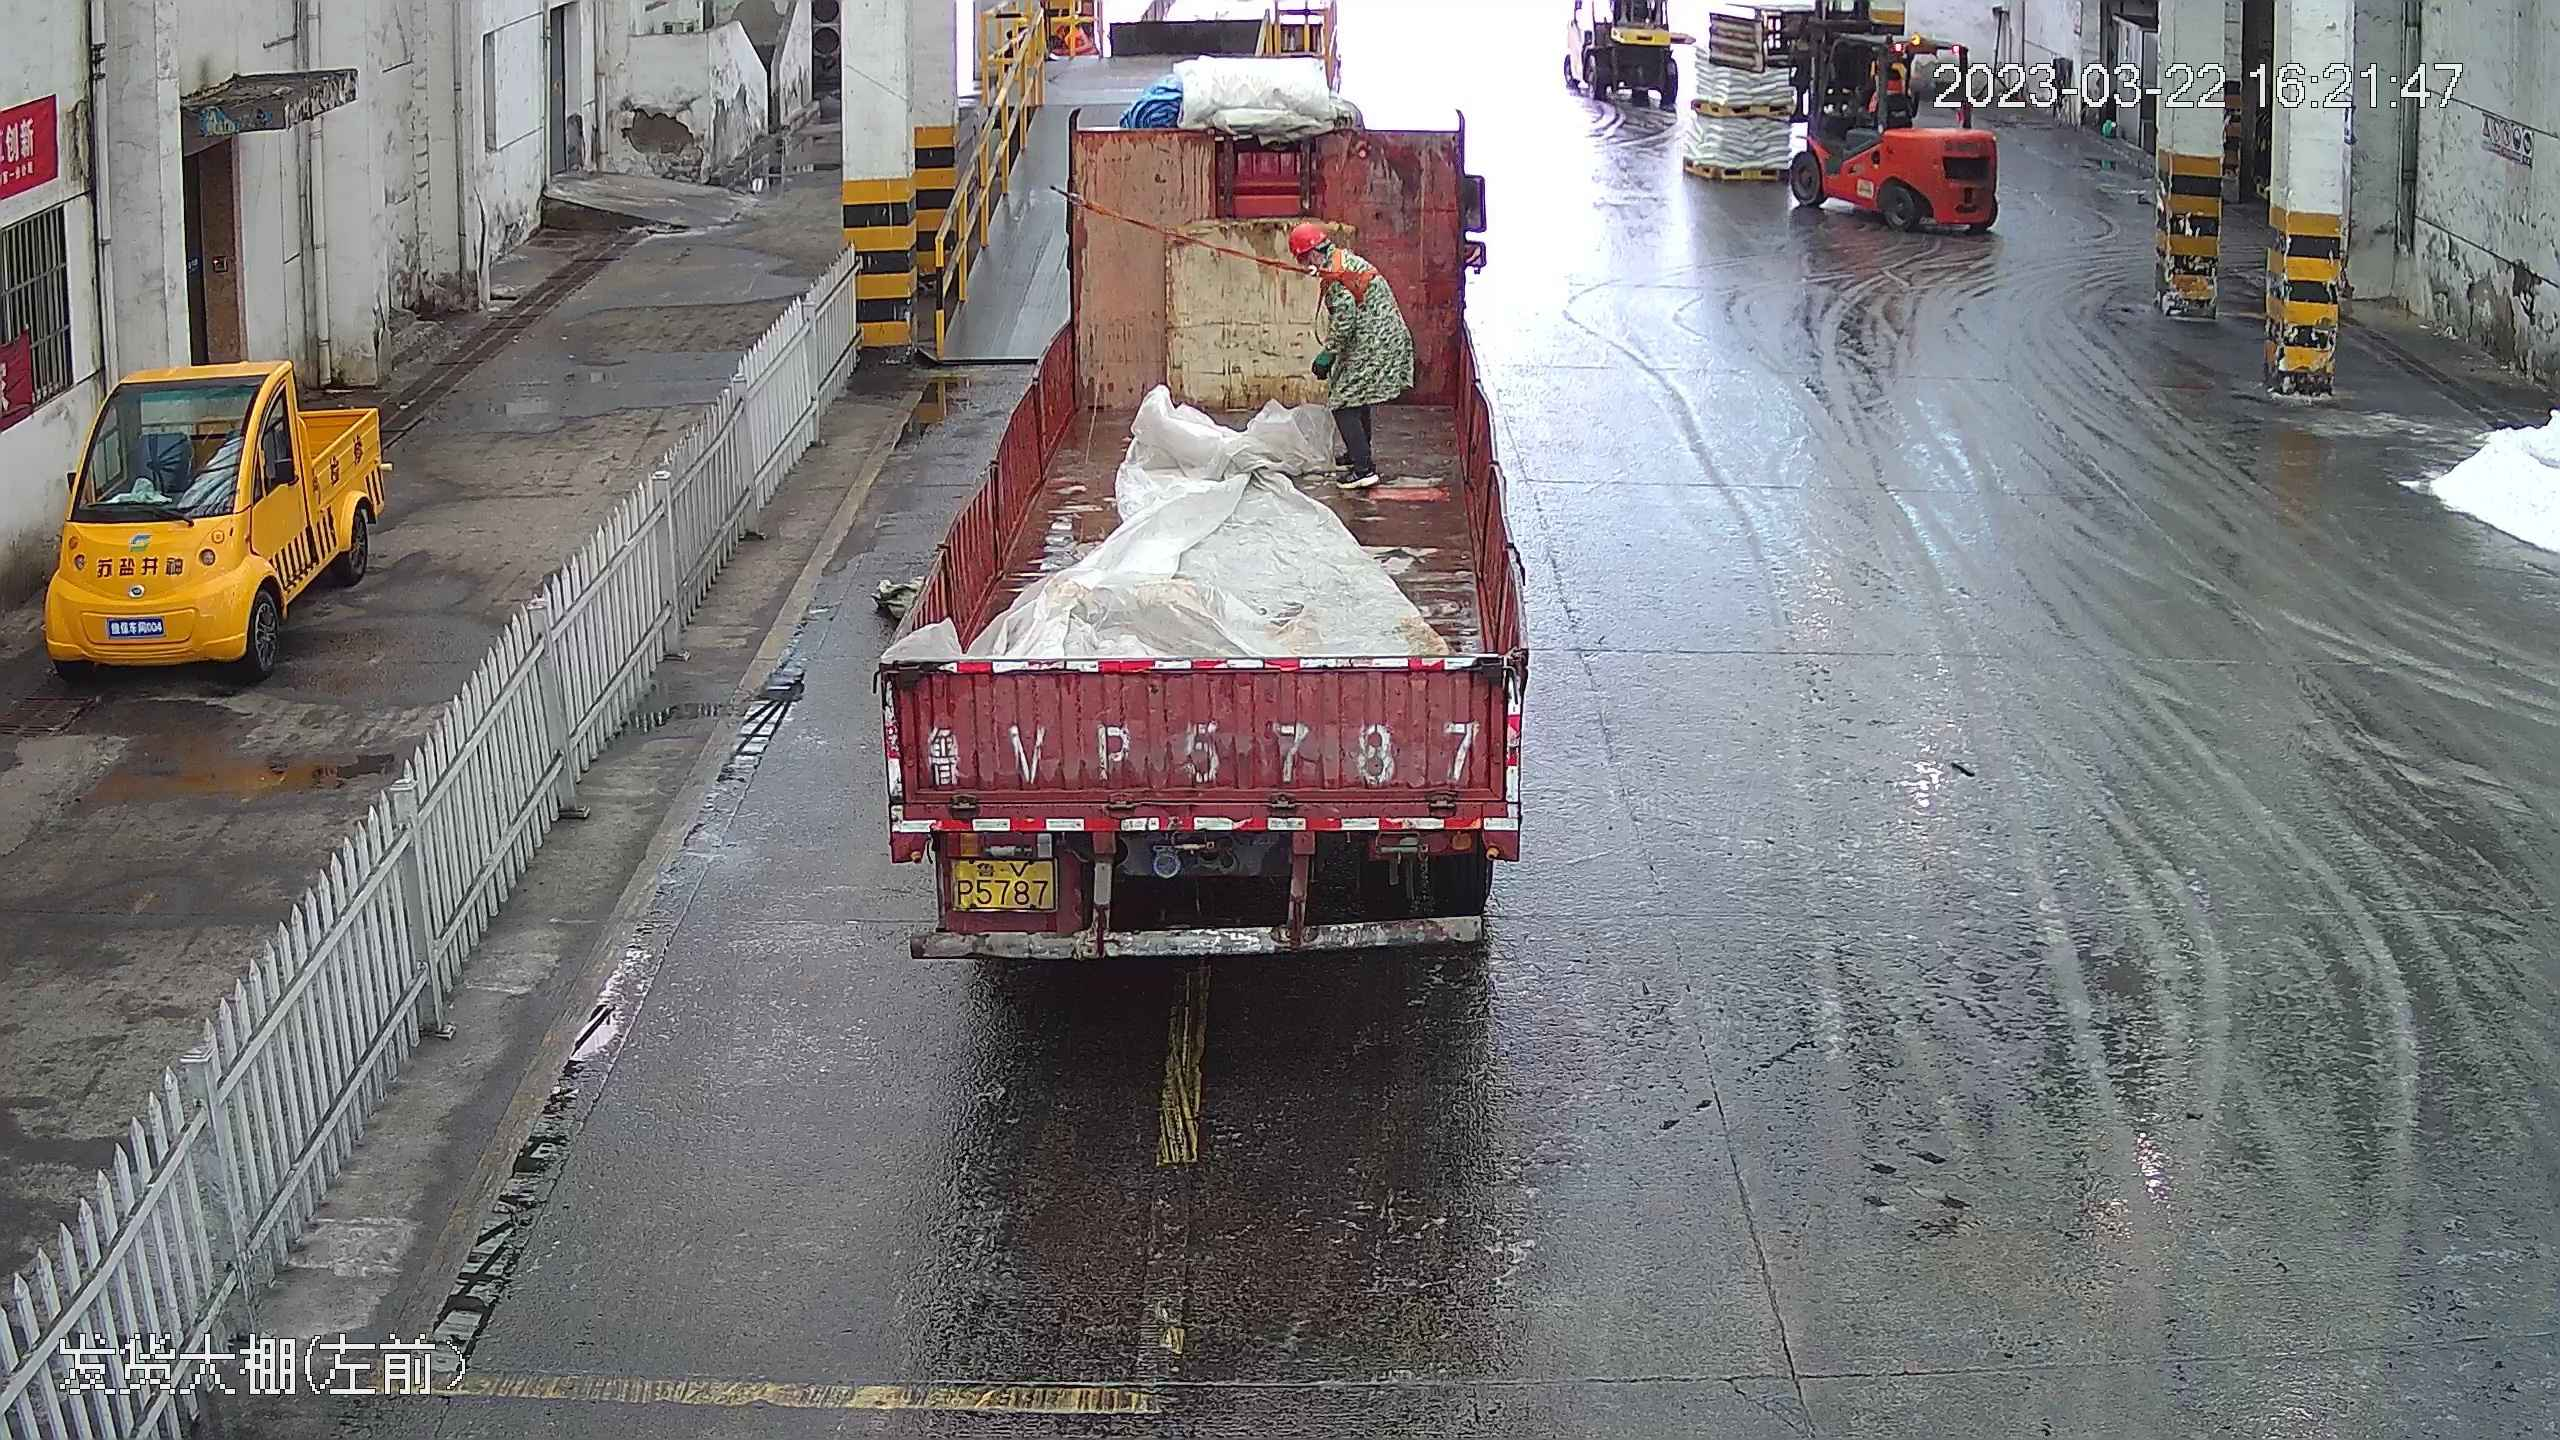belt: (1320, 252, 1390, 326)
head: (1293, 222, 1374, 288)
helmet: (1288, 222, 1325, 251)
people: (1295, 227, 1400, 494)
truck: (869, 32, 1536, 961)
